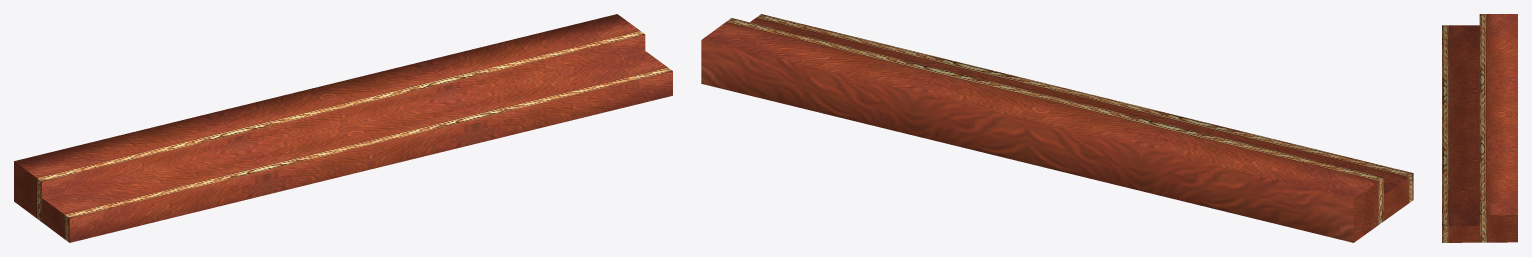
File: S_Build_City206.FBX
The picture shows the model from 3 angles, left to right: view 1: azimuth 30°, elevation 25°; view 2: azimuth 150°, elevation 25°; view 3: azimuth 270°, elevation 25°; orthographic projection. The views are drawn at different scales.
Visible parts, largest first — view 1: S_Build_City206; view 2: S_Build_City206; view 3: S_Build_City206.
Boxes of the visible parts, left/top/right/bottom form: S_Build_City206: left=14, top=14, right=672, bottom=242; S_Build_City206: left=701, top=14, right=1413, bottom=242; S_Build_City206: left=1442, top=14, right=1517, bottom=242.
Bounding box in the file's own units: 3572 × 233 × 569.
